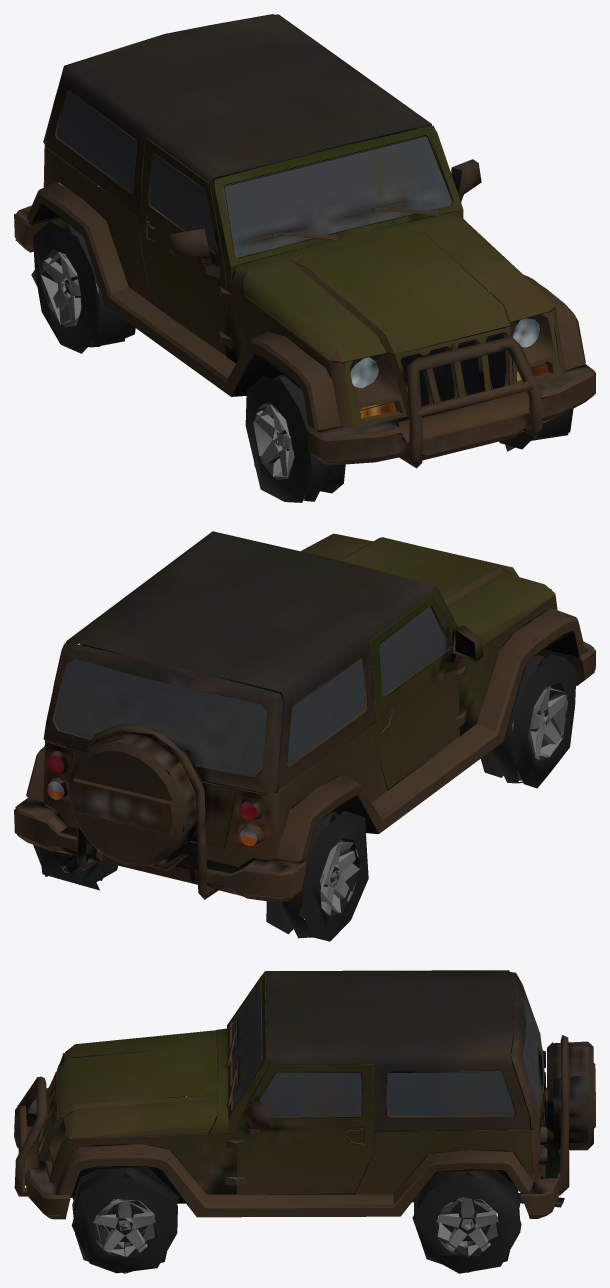
The model's file is pack-offroad-L3.glb.
3 renders of one model, top to bottom at view 1: azimuth 30°, elevation 25°; view 2: azimuth 150°, elevation 25°; view 3: azimuth 270°, elevation 25°, orthographic. The views are drawn at different scales.
Visible parts, largest first — view 1: body, wheel-back-left, wheel-front-left, wheel-front-left.1, wheel-back-left.1, wheel-front-right; view 2: body, wheel-back-left, wheel-front-left, wheel-front-left.1, wheel-back-left.1, wheel-back-right; view 3: body, wheel-front-right, wheel-back-right, wheel-back-right.1, wheel-front-right.1.
Boxes of the visible parts, box(x1,y1,x2,y2) form: body: box(14, 14, 595, 468); wheel-back-left: box(31, 221, 135, 353); wheel-front-left: box(245, 374, 345, 502); wheel-front-left.1: box(253, 403, 294, 479); wheel-back-left.1: box(41, 251, 98, 326); wheel-front-right: box(499, 329, 573, 451); body: box(14, 531, 595, 902); wheel-back-left: box(266, 810, 368, 941); wheel-front-left: box(481, 654, 576, 788); wheel-front-left.1: box(512, 685, 567, 759); wheel-back-left.1: box(320, 840, 359, 914); wheel-back-right: box(33, 845, 117, 890); body: box(14, 970, 595, 1219); wheel-front-right: box(71, 1167, 178, 1273); wheel-back-right: box(412, 1170, 521, 1273); wheel-back-right.1: box(436, 1197, 498, 1257); wheel-front-right.1: box(93, 1199, 155, 1257).
Bounding box in the file's own units: 1.96 × 1.63 × 3.94.
Materials: 3 (1 with a texture image).
